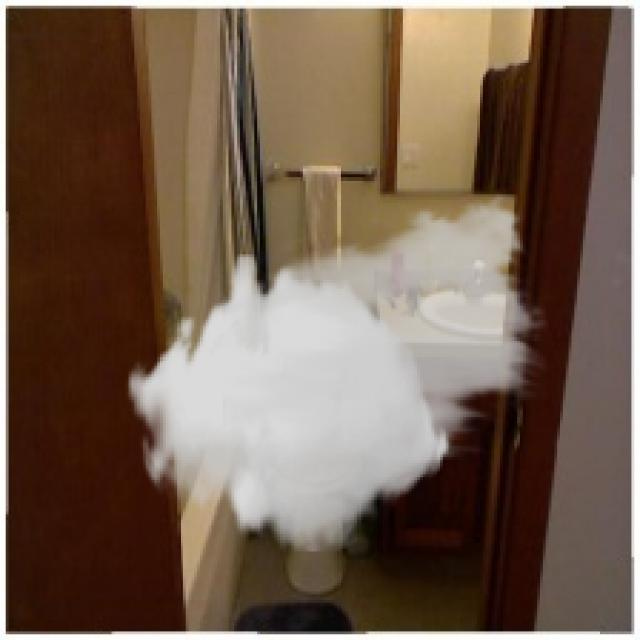smoke: (126, 186, 548, 551)
